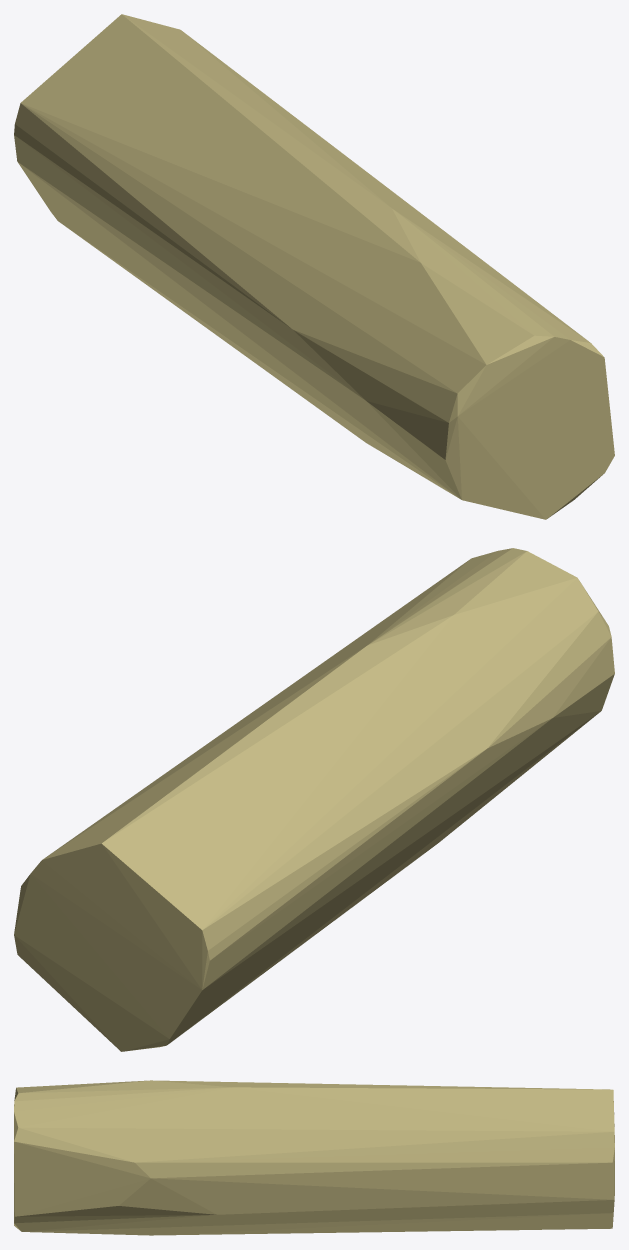
Rendered from dishware_glass_wineFlute_a01.glb.
The picture shows the model from 3 angles, top to bottom: view 1: azimuth 30°, elevation 25°; view 2: azimuth 150°, elevation 25°; view 3: azimuth 270°, elevation 25°; orthographic projection. The views are drawn at different scales.
Parts seen in each view (by area): view 1: geometry_0; view 2: geometry_0; view 3: geometry_0.
Part boxes in pixels (x1,y1,x2,y2): geometry_0: (14, 14, 614, 519); geometry_0: (14, 548, 614, 1051); geometry_0: (14, 1080, 614, 1235).
Bounding box in the file's own units: 0.1291 × 0.1316 × 0.48.
